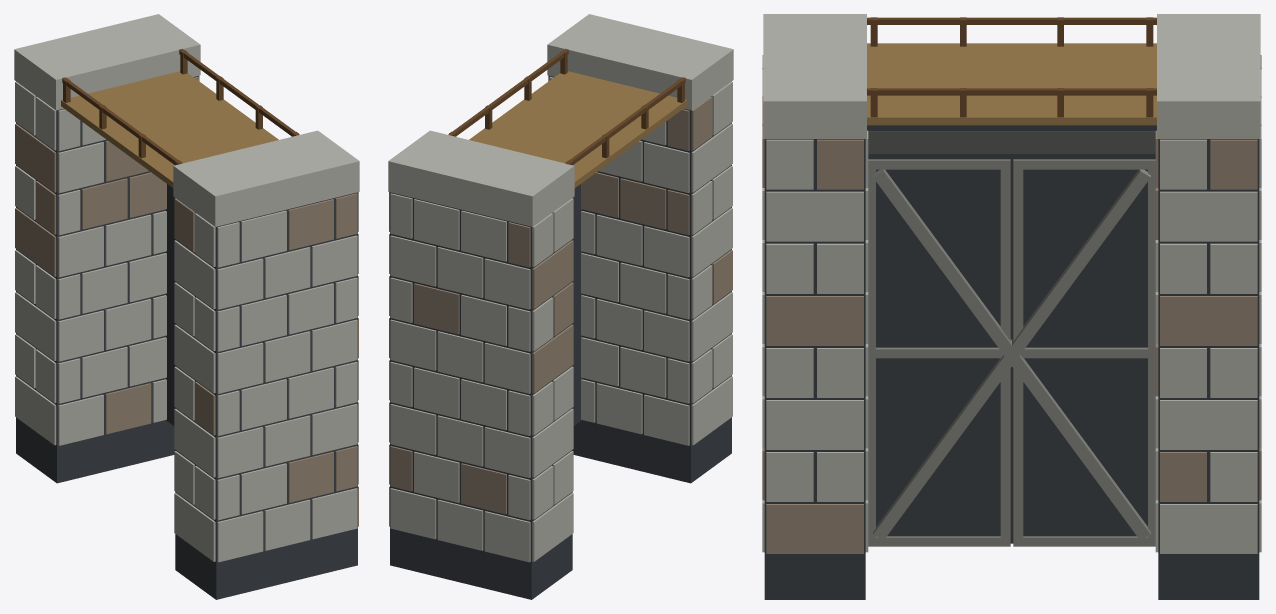
File: fort_patchwork_gate.glb
3 renders of one model, left to right at view 1: azimuth 30°, elevation 25°; view 2: azimuth 150°, elevation 25°; view 3: azimuth 270°, elevation 25°, orthographic. The views are drawn at different scales.
Parts seen in each view (by area): view 1: fort_patchwork_gate; view 2: fort_patchwork_gate; view 3: fort_patchwork_gate.
Part boxes in pixels (x1,y1,x2,y2): fort_patchwork_gate: (14, 14, 359, 599); fort_patchwork_gate: (388, 14, 733, 599); fort_patchwork_gate: (762, 14, 1261, 599).
Size of the model in its own units: 4.96 by 13.2 by 11.96.
